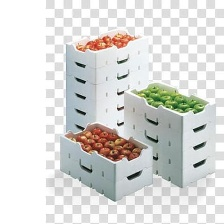plastic_box: (118, 75, 222, 193), (60, 21, 155, 145), (55, 118, 160, 205)
